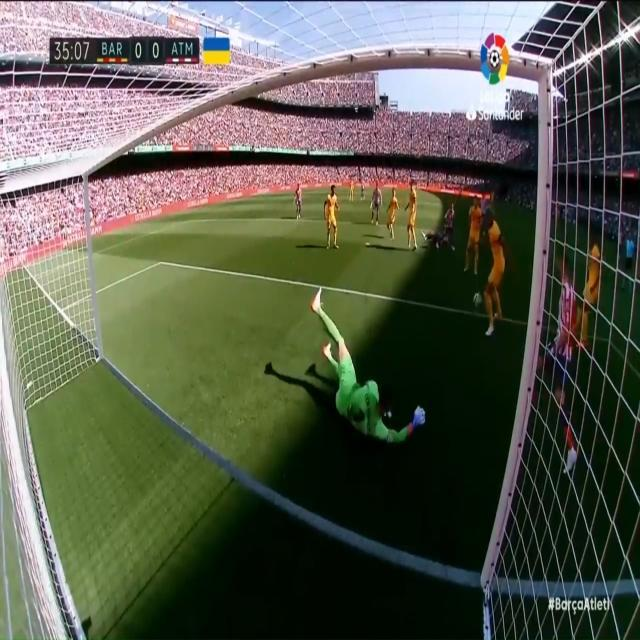ball: (470, 287, 485, 312)
goalkeeper: (300, 287, 434, 452)
player: (543, 237, 581, 473), (576, 219, 602, 349), (483, 205, 505, 340), (462, 192, 484, 276), (402, 178, 421, 254), (319, 183, 339, 251), (441, 196, 459, 252), (386, 182, 402, 241), (419, 222, 448, 251), (369, 177, 383, 228), (292, 179, 304, 223), (347, 174, 356, 203), (359, 173, 366, 202)
referee: (620, 225, 637, 292)
